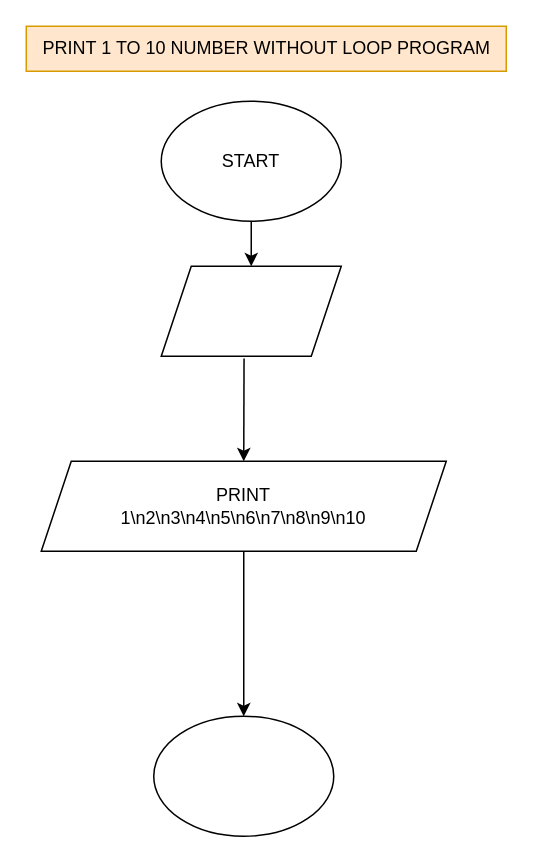
Some shapes in this 533 by 863 pixel diagram are drawn without their labels. The shapes that lost their labels are listed below. From the top down, each one's centre as x and y in pixels, then its label:
At point (250, 310): "INPUT N".
At point (243, 775): "STOP".
